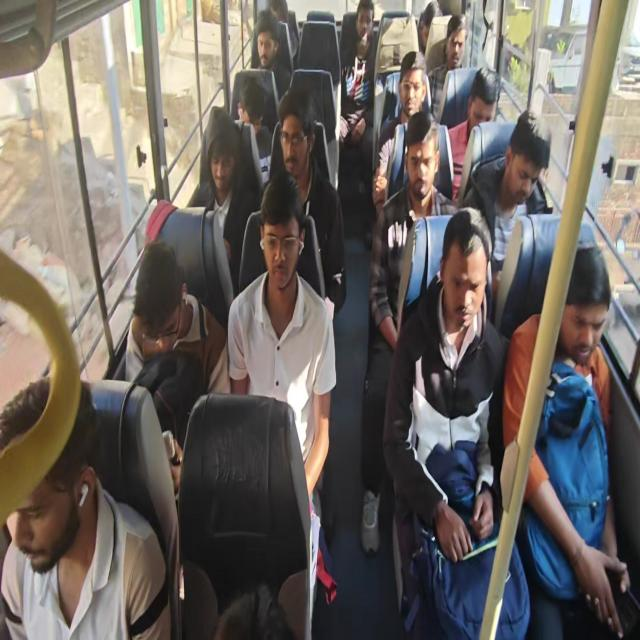person: (0, 393, 102, 552), (553, 252, 616, 374), (440, 217, 488, 326), (137, 259, 187, 353), (502, 118, 548, 208), (269, 102, 317, 182), (399, 120, 442, 200), (203, 108, 235, 206), (263, 194, 299, 280), (465, 73, 502, 143), (233, 73, 268, 141), (394, 65, 424, 121), (442, 18, 472, 71), (254, 21, 279, 80), (419, 0, 444, 56), (260, 0, 293, 38), (355, 11, 377, 50)
